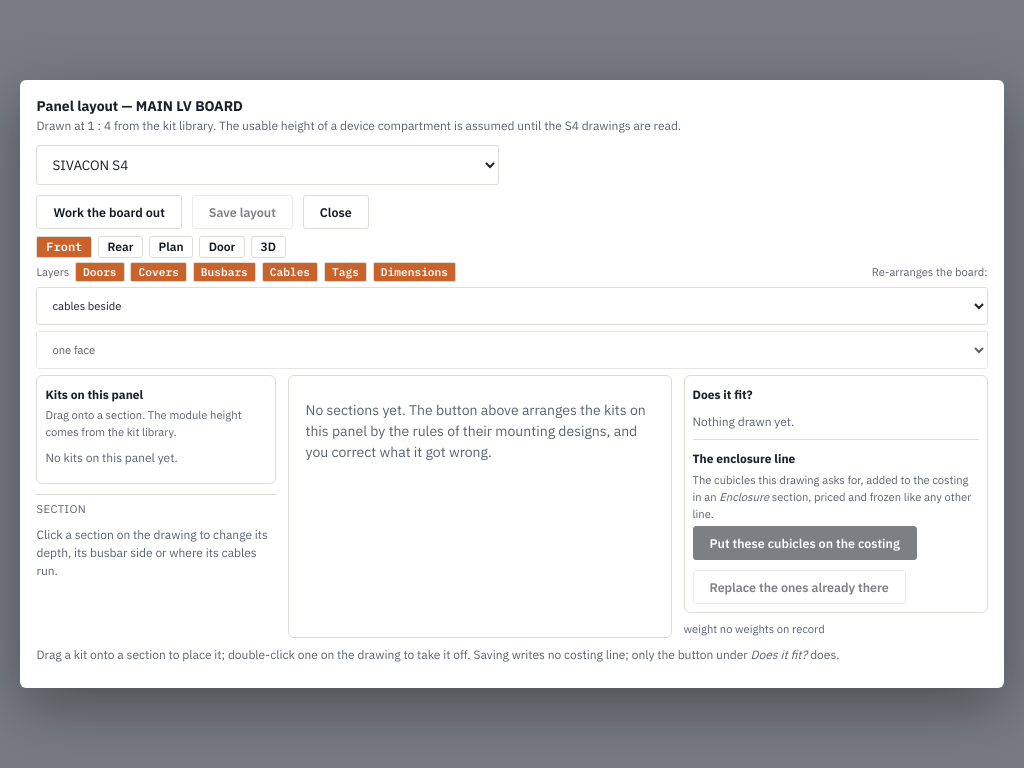
the other four views › draws what is on the door when the library knows its size, and names what it does not
Click the button "Work the board out". click: (109, 212)
box: [36,195,182,229]
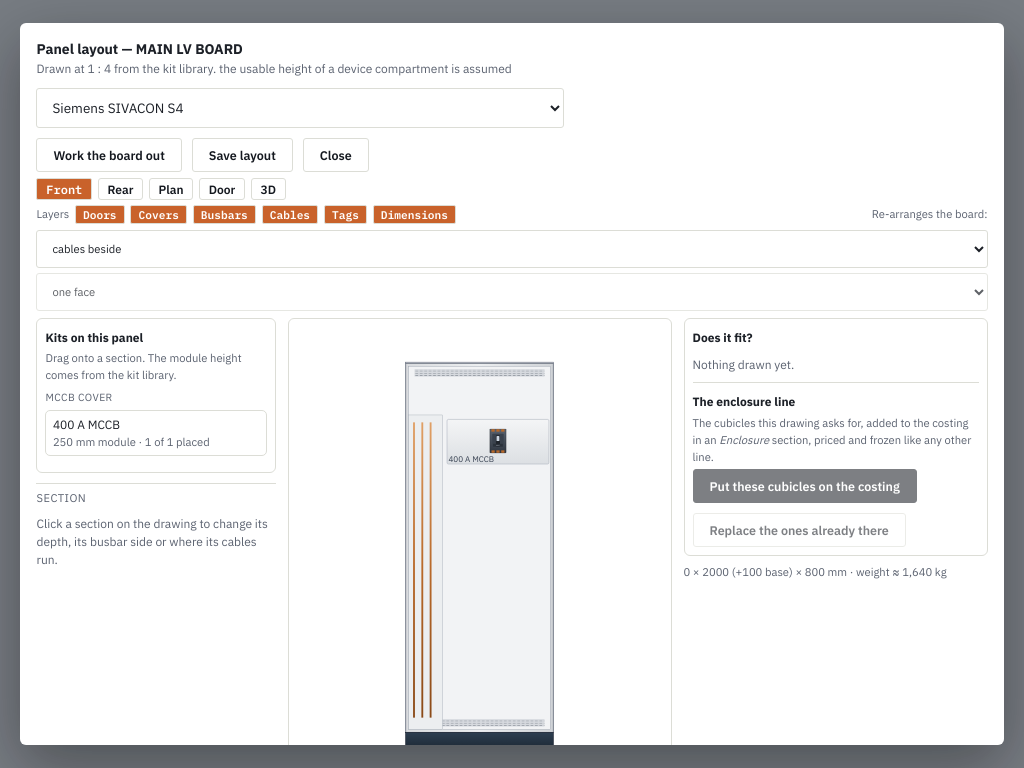
Expected: the picture named "Front view" is shown, [290,319,670,745]
Click the button "Door". click: (222, 189)
box: [199,178,245,200]
(page scrolled)
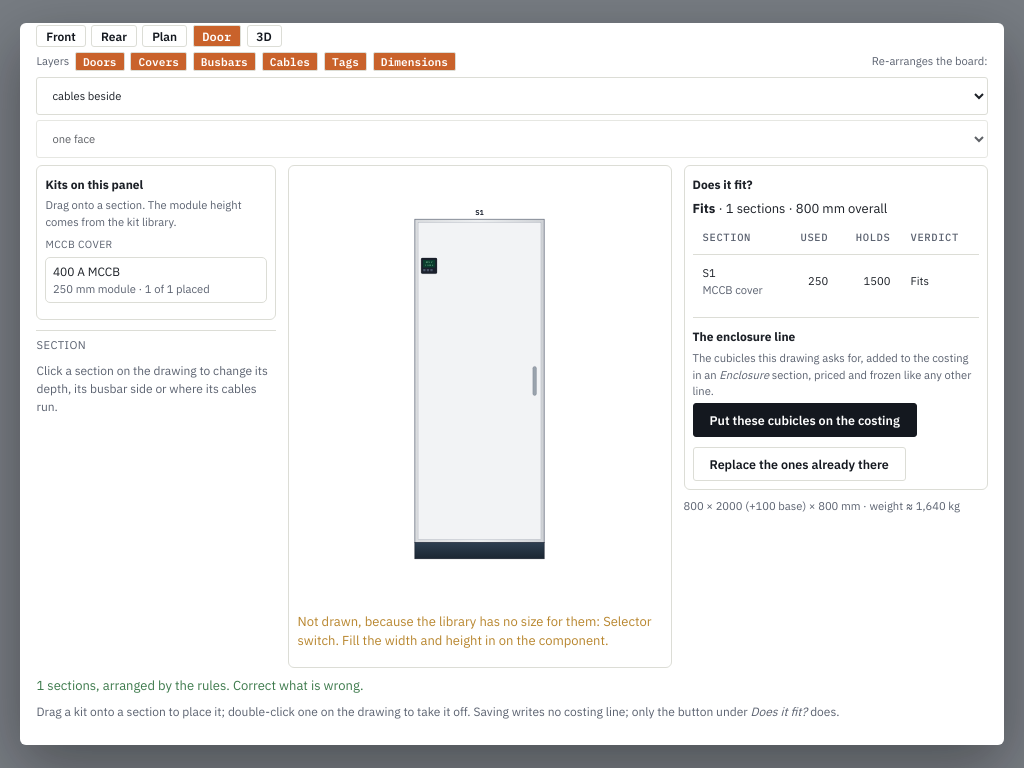
Expected: the picture named "Door view, 1 doors, 2 door-mounted parts" is shown, [298,174,662,604]
Expected: the text "Selector switch" is shown, [298,613,652,649]
